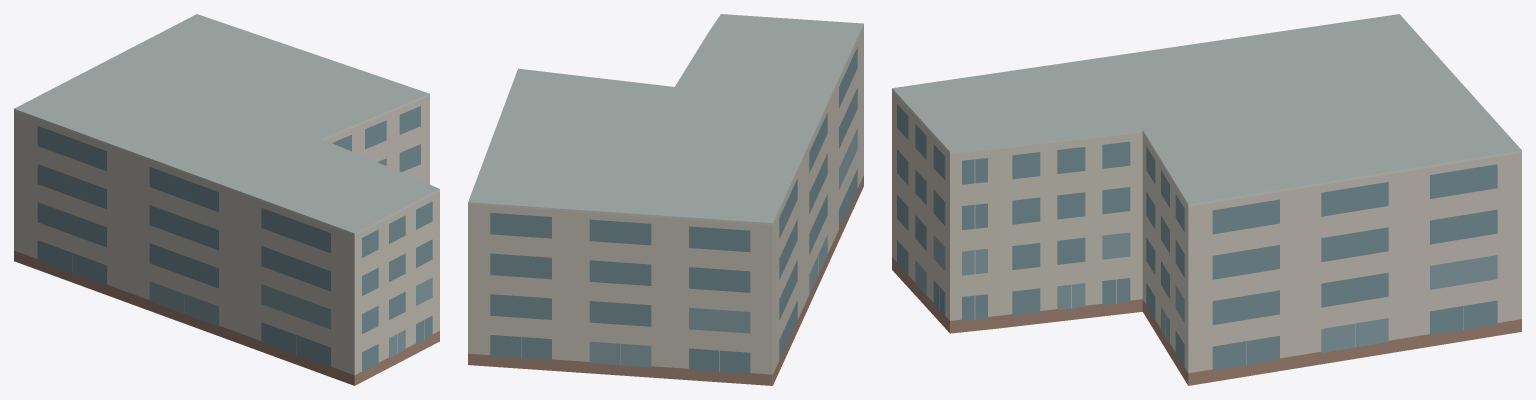
Rendered from survey-upis-32478984.glb.
The picture shows the model from 3 angles, left to right: view 1: azimuth 30°, elevation 25°; view 2: azimuth 150°, elevation 25°; view 3: azimuth 270°, elevation 25°; orthographic projection. The views are drawn at different scales.
Visible parts, largest first — view 1: survey-upis-32478984.tmp; view 2: survey-upis-32478984.tmp; view 3: survey-upis-32478984.tmp.
Part boxes in pixels (x1,y1,x2,y2): survey-upis-32478984.tmp: (14, 14, 439, 385); survey-upis-32478984.tmp: (468, 14, 863, 385); survey-upis-32478984.tmp: (892, 14, 1521, 385).
Bounding box in the file's own units: 39.32 × 17.5 × 54.99.
